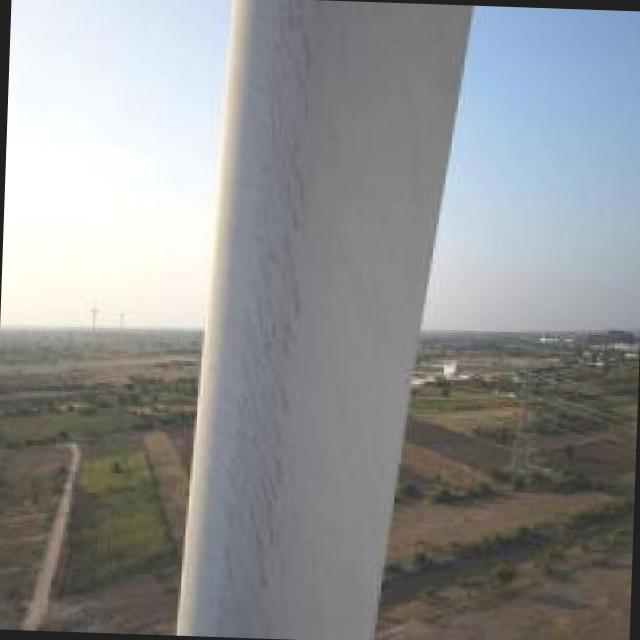Dirt: (219, 0, 331, 640)
